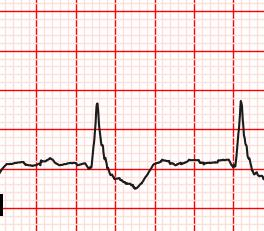T inversion: (102, 156, 168, 193)
